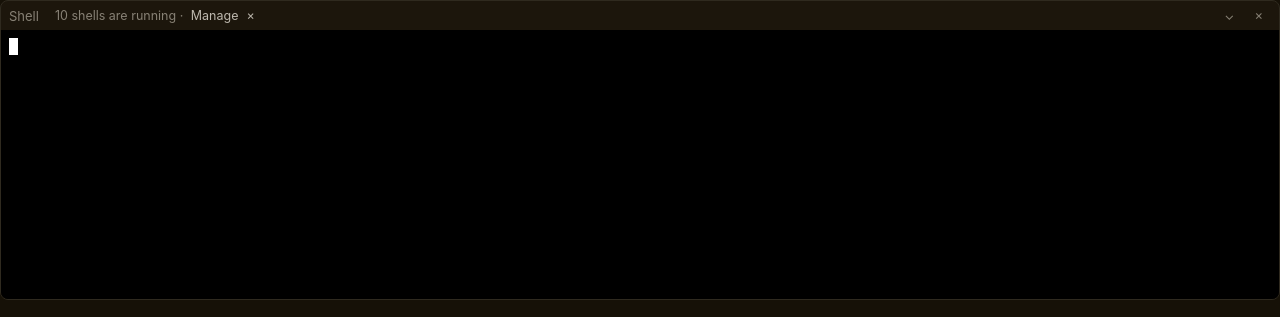
Test: ShellDock › soft limit notice (D8) › is dismissible, never ends anything, and returns with the next dock
The width and height of the screenshot is (1280, 317).
Check: the text "10 shells are running · Manage ×" is shown, box [55,8,259,23]
What coordinates should you click on to do the following:
click the button named "Dismiss shell count notice"
I would click on:
 (251, 16)
Its box is [242,8,259,23].
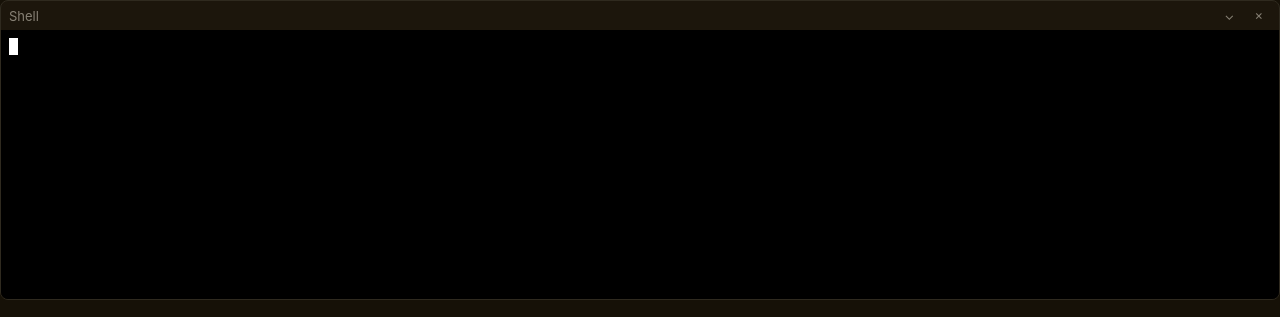
Check: the text "shells are running" is gone
